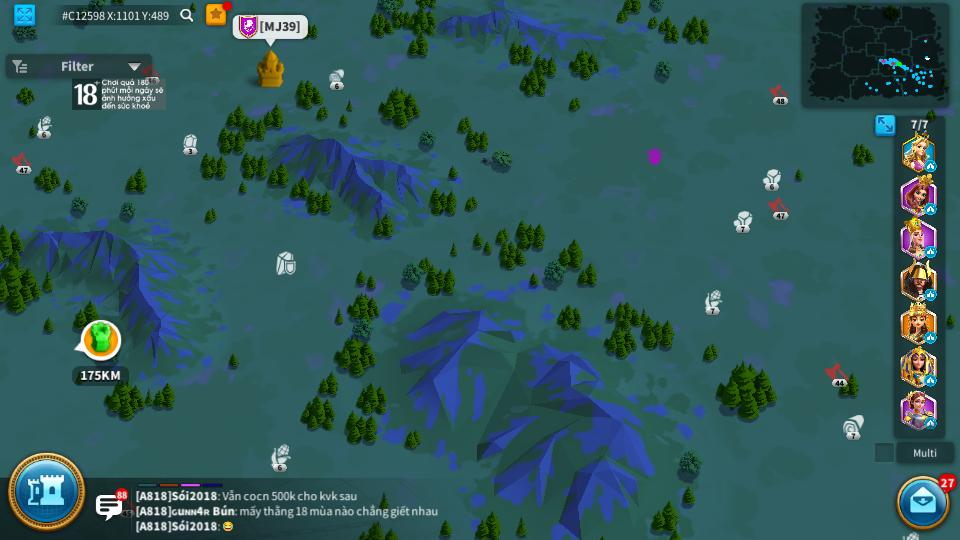gem-z-out: (182, 134, 198, 151)
march_idle: (925, 246, 937, 259), (924, 374, 937, 386), (925, 203, 937, 215), (924, 332, 936, 344), (925, 416, 936, 429), (925, 160, 936, 172), (925, 289, 936, 301)
